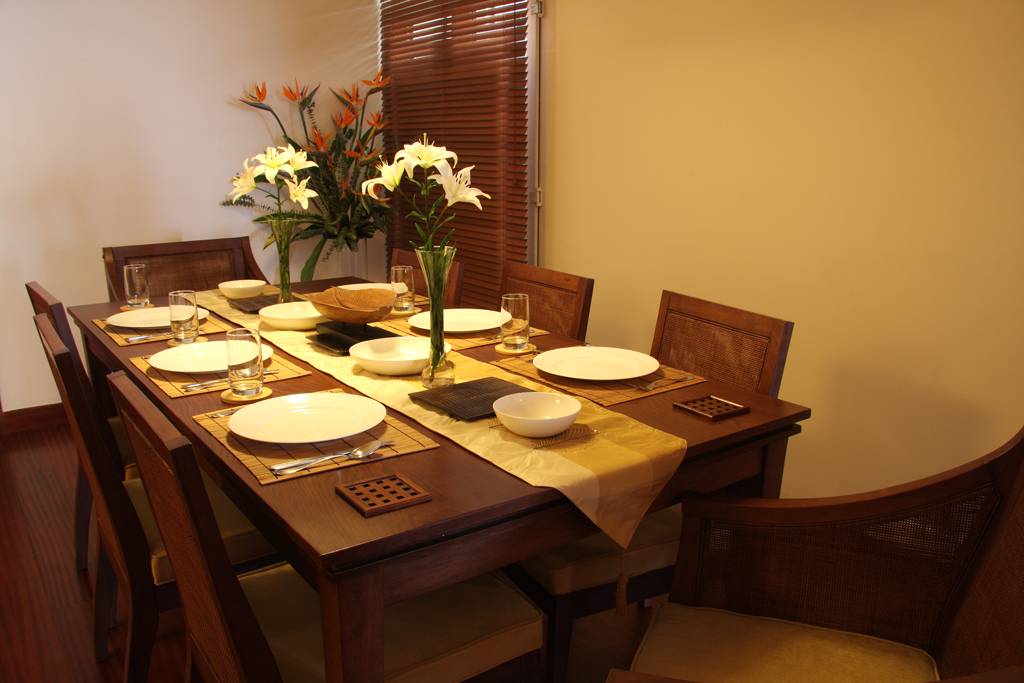dining table: (66, 275, 813, 683)
